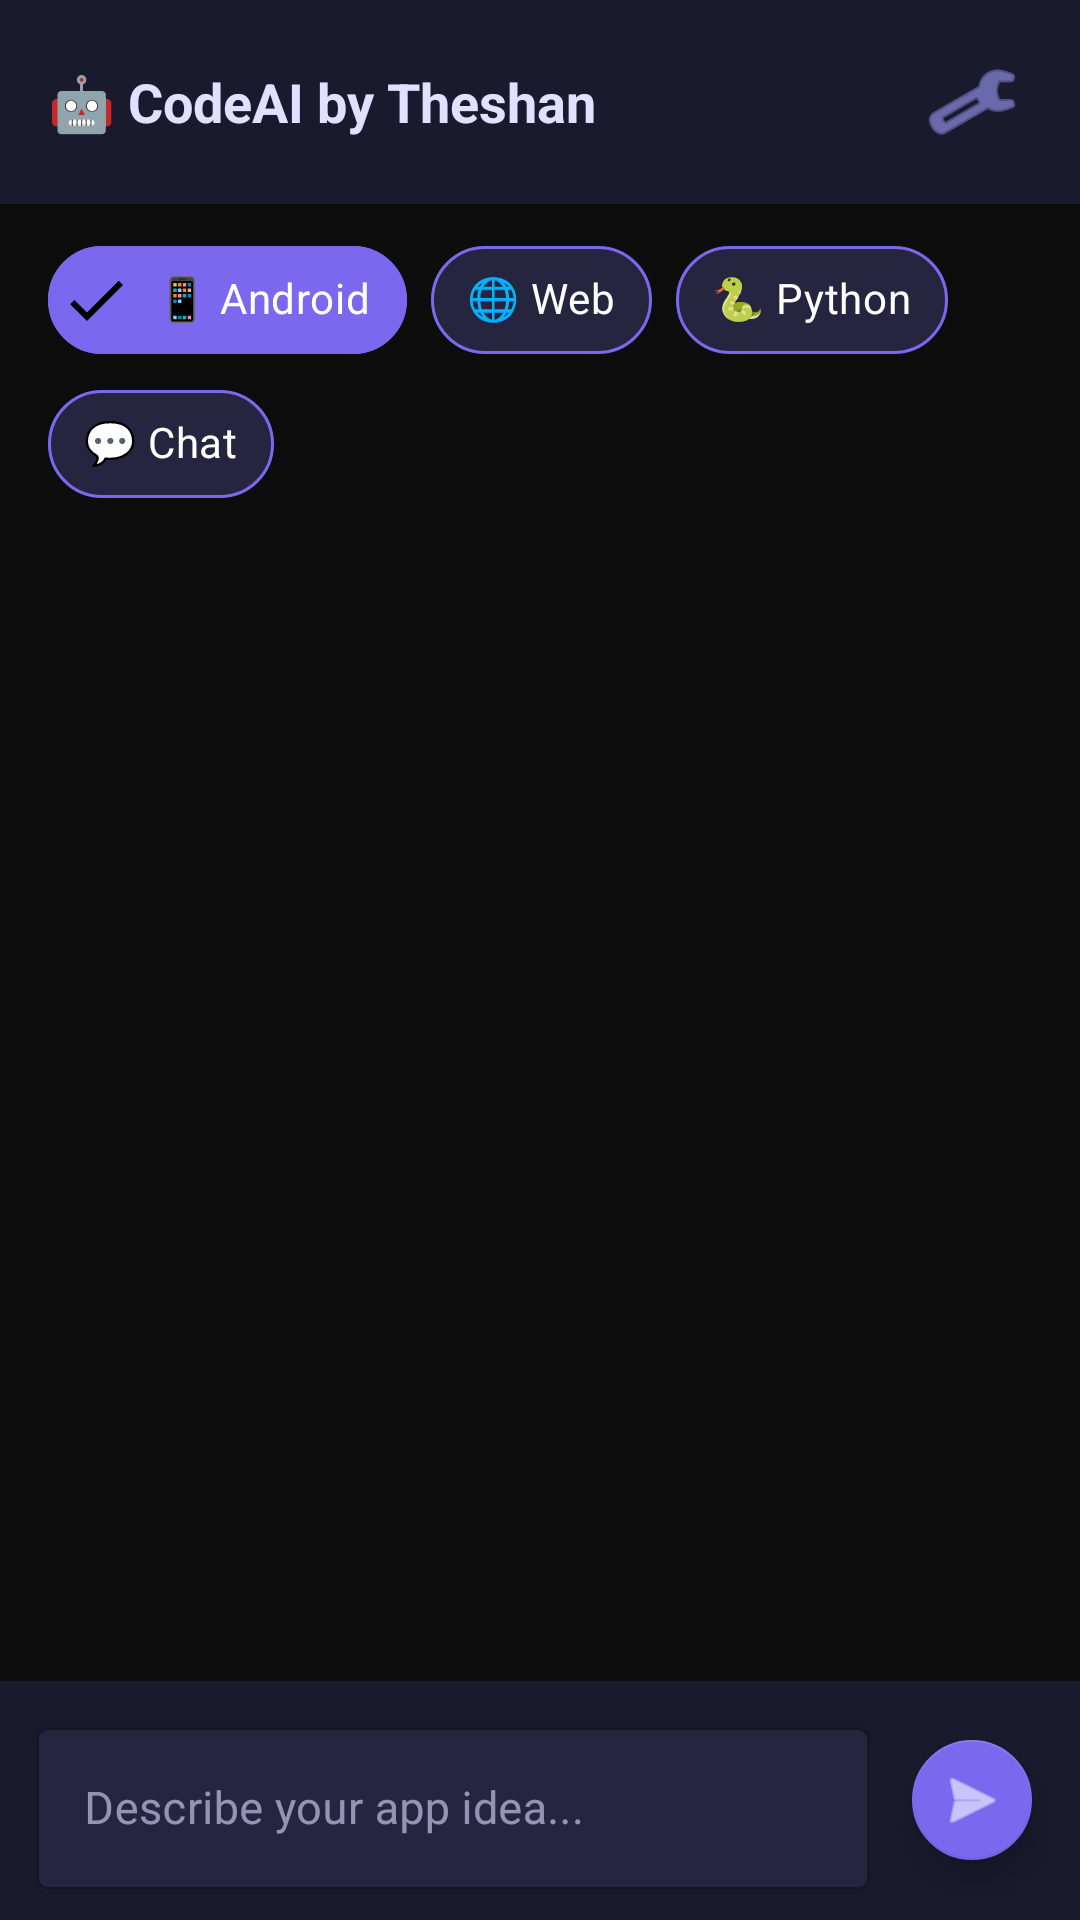

Named icons in this screenshot (1080px×1920px) and their centers, (x,y):
Send: (972,1800)
Settings: (972,102)
